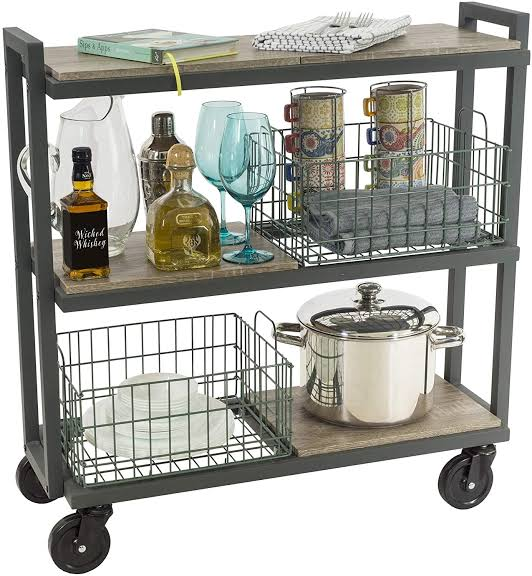Carts: (2, 1, 529, 575)
